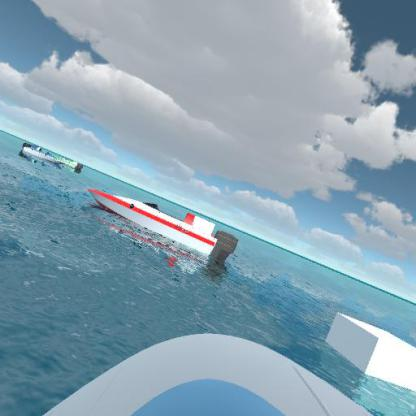usv0: (51, 151, 89, 174)
usv1: (18, 140, 64, 172)
usv3: (85, 178, 250, 272)
